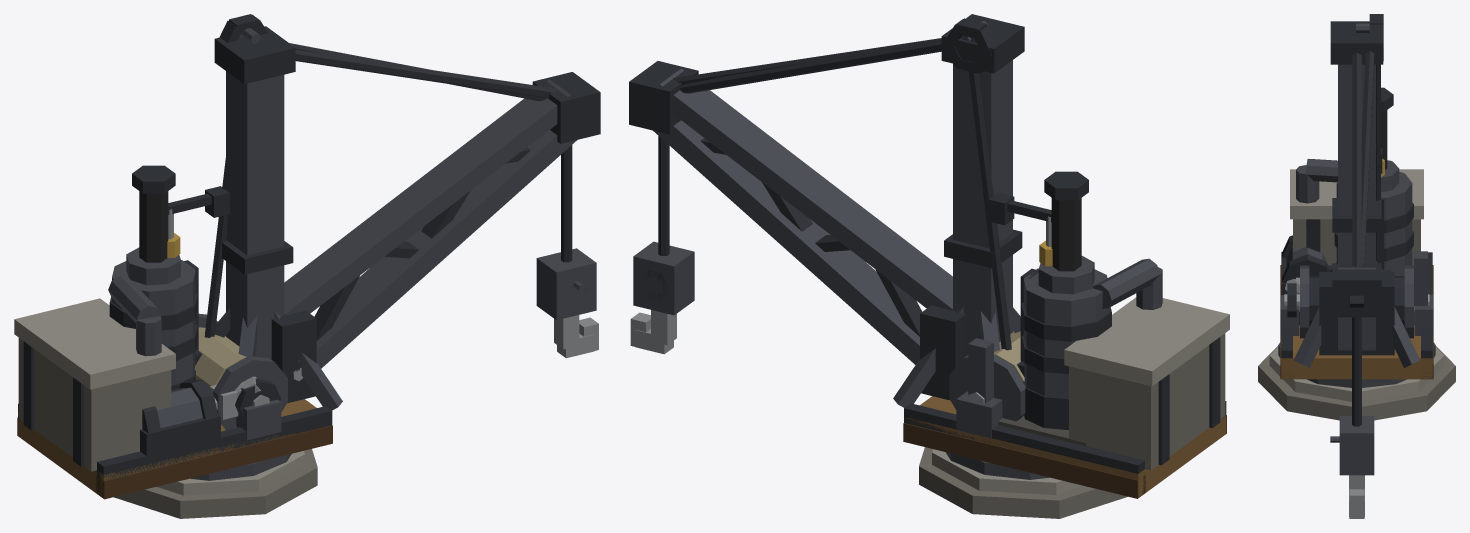
Rendered from steam_crane.glb.
3 renders of one model, left to right at view 1: azimuth 30°, elevation 25°; view 2: azimuth 150°, elevation 25°; view 3: azimuth 270°, elevation 25°, orthographic. The views are drawn at different scales.
Parts seen in each view (by area): view 1: Cube.021, Cube.038, Cube.037, Cube.005, Cube.006, Cylinder, Cube.001, Cube.002, Cube.054, Cube.027, Cylinder.031, Cylinder.004 (+27 smaller); view 2: Cube.038, Cube.021, Cube.005, Cube.037, Cube.006, Cylinder, Cylinder.004, Cube.003, Cube.054, Cube, Cube.004, Cube.043 (+28 smaller); view 3: Cylinder, Cube.021, Cube, Cube.043, Cube.044, Cylinder.001, Cylinder.031, Cube.054, Cube.006, Cylinder.004, Cube.027, Cylinder.033 (+30 smaller).
Part boxes in pixels (x1,y1,x2,y2): Cube.021: [226, 71, 284, 359]; Cube.038: [284, 79, 571, 315]; Cube.037: [316, 130, 576, 368]; Cube.005: [18, 338, 171, 471]; Cube.006: [14, 298, 175, 389]; Cylinder: [114, 449, 317, 518]; Cube.001: [96, 425, 332, 499]; Cube.002: [97, 406, 332, 480]; Cube.054: [536, 248, 596, 320]; Cube.027: [214, 26, 295, 84]; Cylinder.031: [295, 49, 557, 98]; Cylinder.004: [112, 260, 195, 385]; Cube.038: [659, 68, 952, 310]; Cube.021: [953, 60, 1012, 355]; Cube.005: [1069, 333, 1225, 470]; Cube.037: [653, 120, 919, 364]; Cube.006: [1064, 297, 1229, 386]; Cylinder: [919, 447, 1127, 518]; Cylinder.004: [1023, 268, 1109, 398]; Cube.003: [903, 423, 1145, 498]; Cube.054: [633, 241, 694, 315]; Cube: [904, 396, 1226, 497]; Cube.004: [904, 403, 1144, 477]; Cube.043: [920, 305, 966, 400]; Cylinder: [1258, 345, 1455, 420]; Cube.021: [1338, 64, 1375, 263]; Cube: [1281, 310, 1432, 379]; Cube.043: [1319, 272, 1394, 355]; Cube.044: [1332, 263, 1381, 317]; Cylinder.001: [1269, 347, 1444, 401]; Cylinder.031: [1352, 53, 1361, 267]; Cube.054: [1339, 416, 1374, 475]; Cube.006: [1290, 169, 1423, 219]; Cylinder.004: [1336, 172, 1412, 275]; Cube.027: [1330, 21, 1383, 64]; Cylinder.033: [1361, 33, 1374, 263].
Bounding box in the file's own units: 94.9 × 72.6 × 34.
